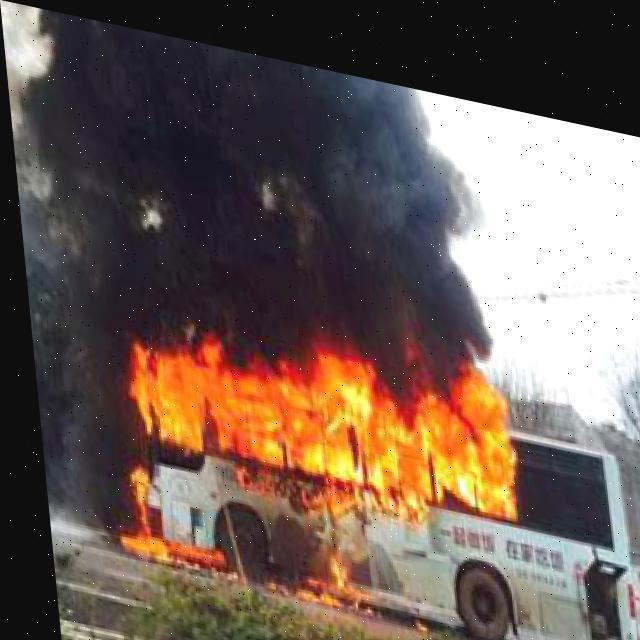Fire: (102, 270, 516, 626)
